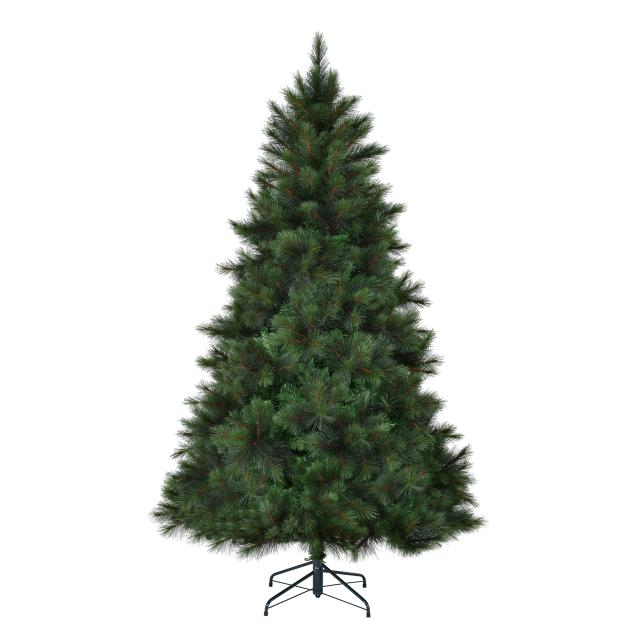Christmas-tree: (120, 16, 527, 552)
